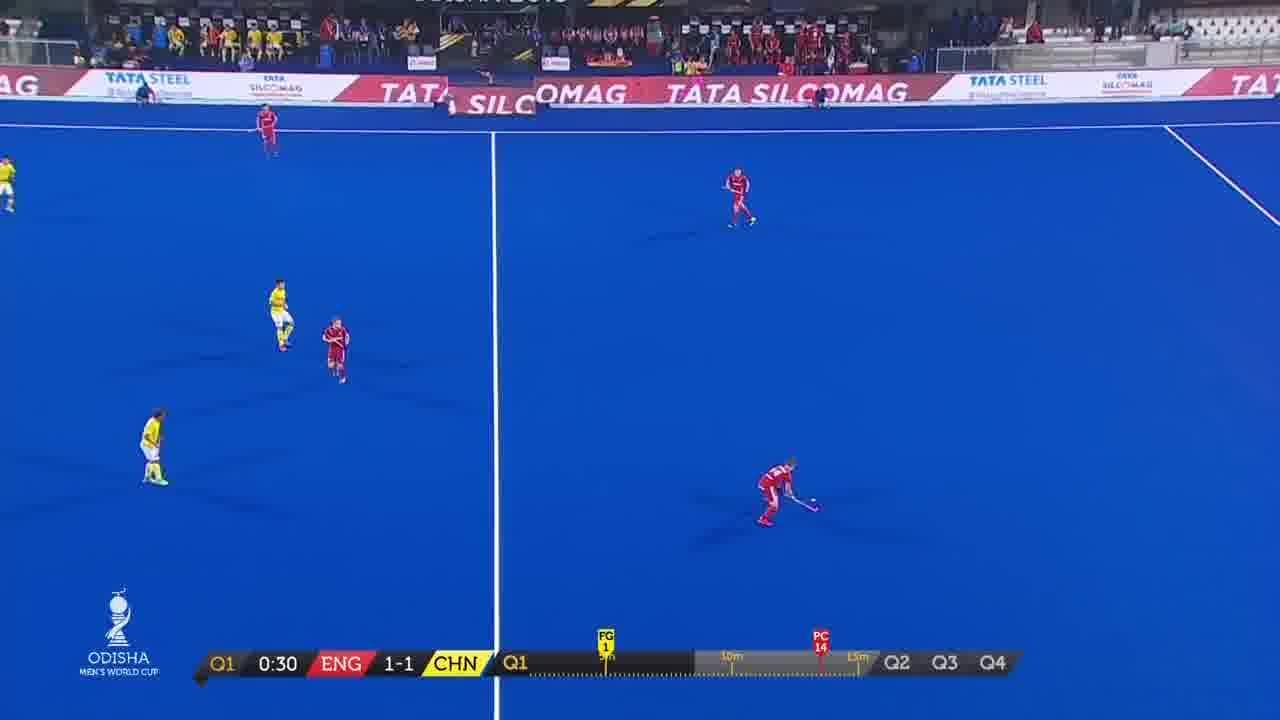ball: (806, 494, 823, 510)
